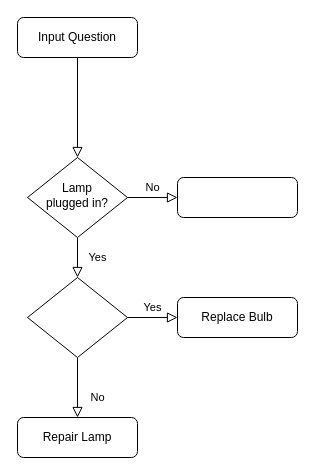
The diagram is 315 pixels wide and 475 high, and some of its shapes have lost their labels. The centre of each missing label's shape, as x and y in pixels:
"Bulb burned out?" goes at point 77,317.
"Plug in lamp" goes at point 237,197.
